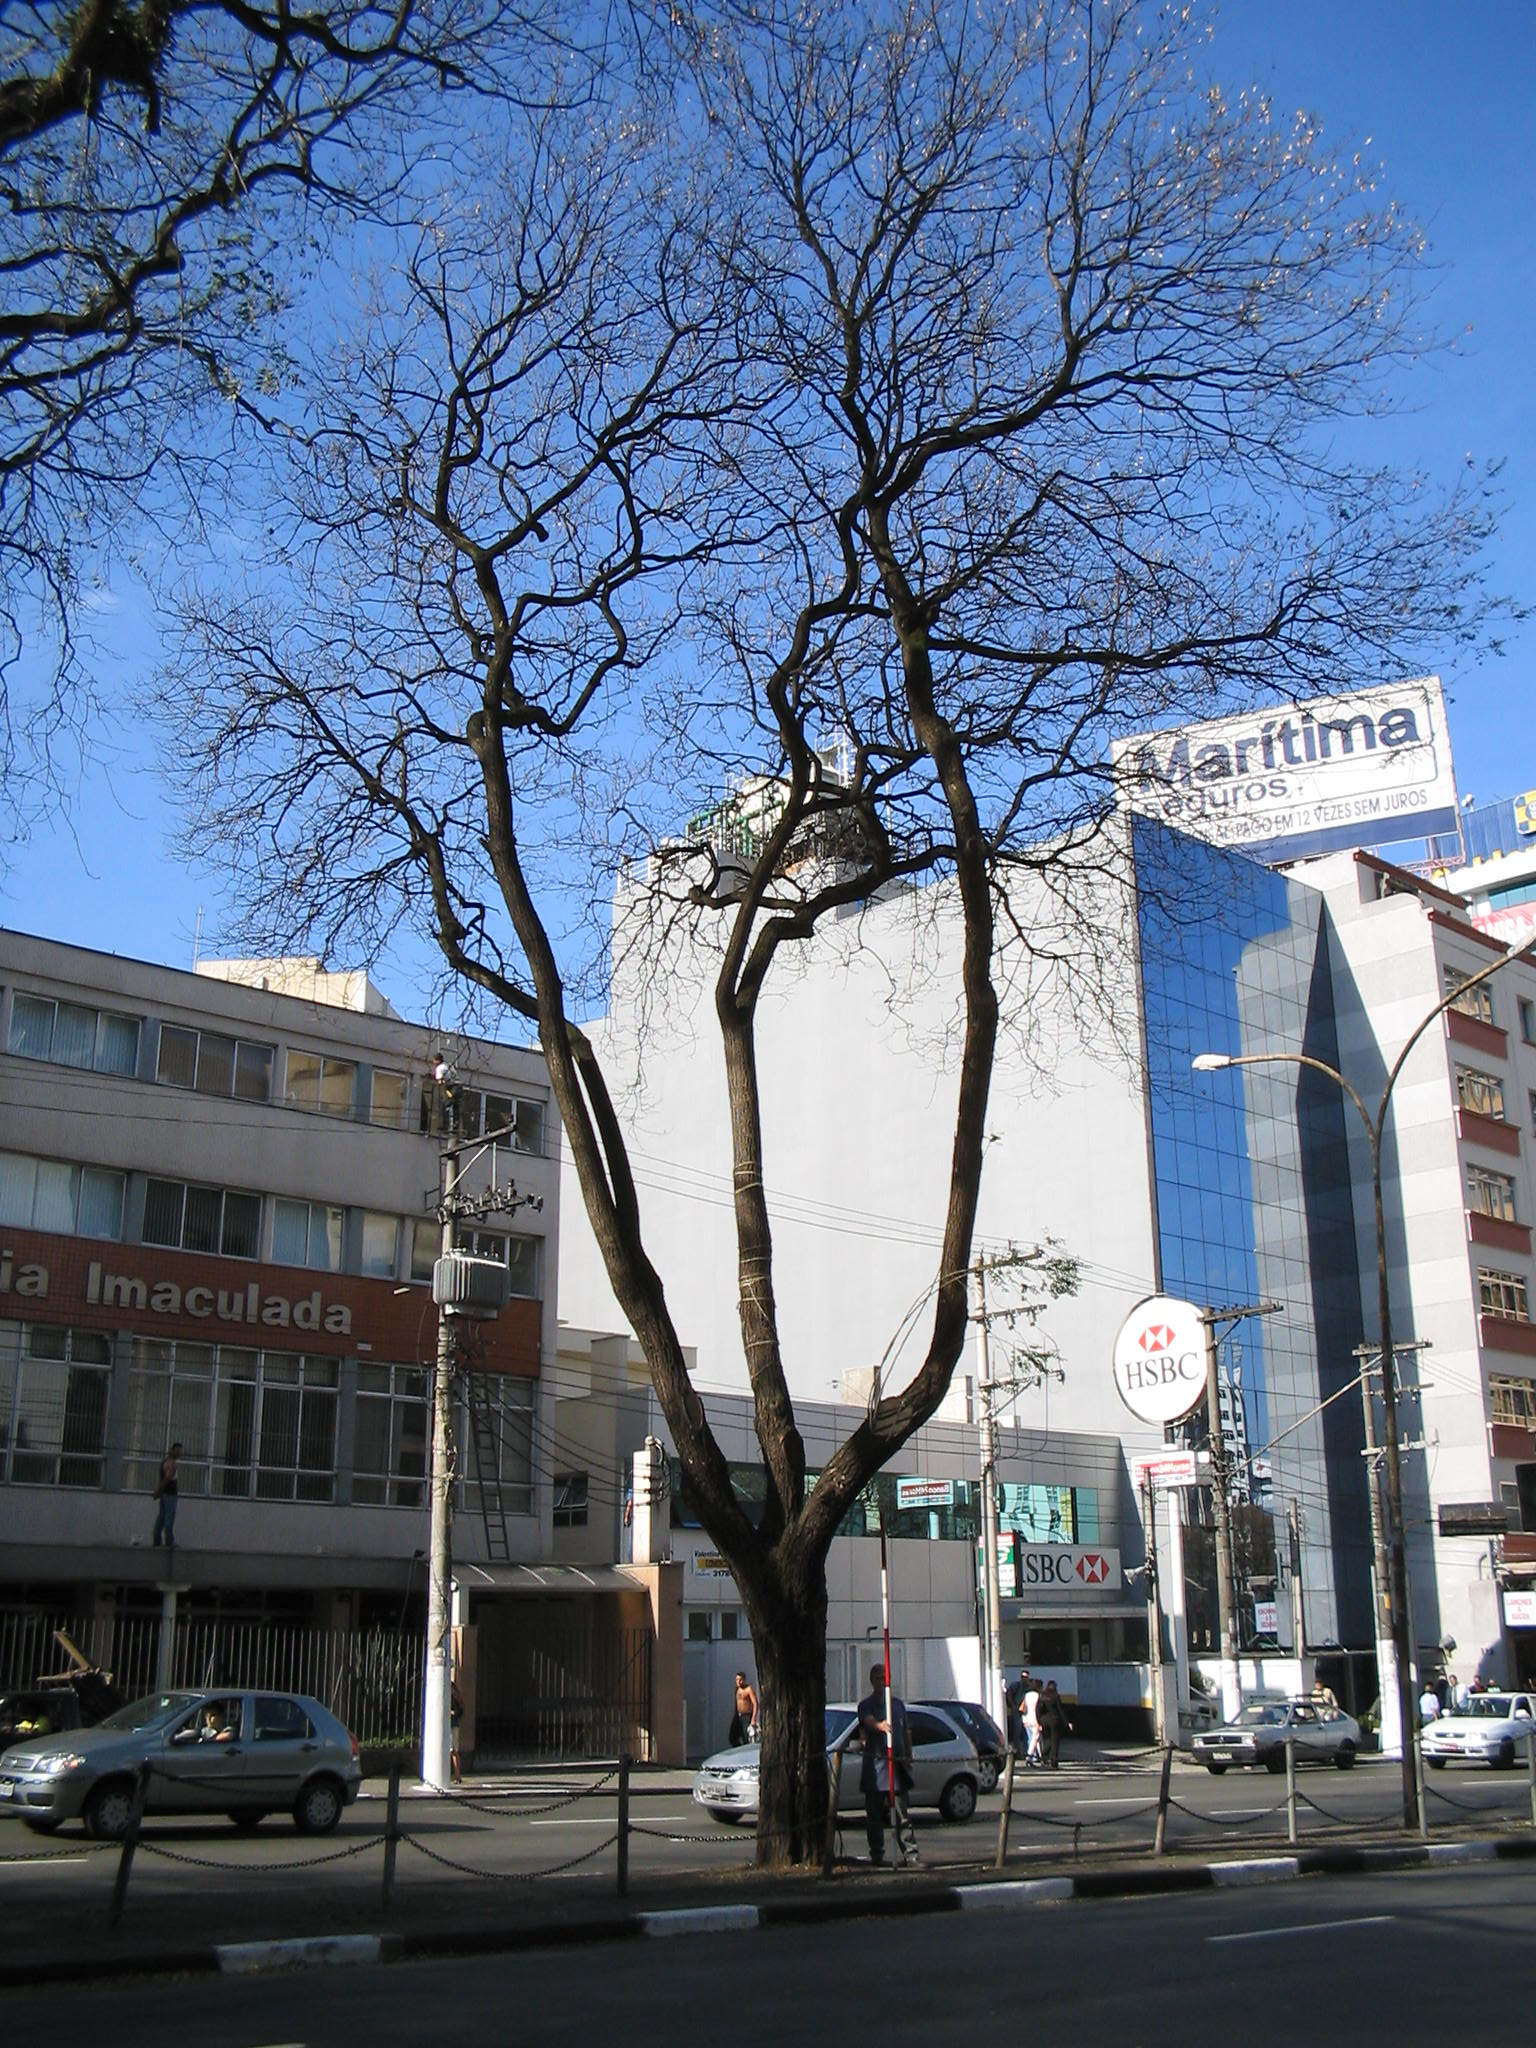stem: (692, 1567, 871, 1869)
stick: (863, 1511, 904, 1869)
tree: (129, 2, 1530, 1872)
